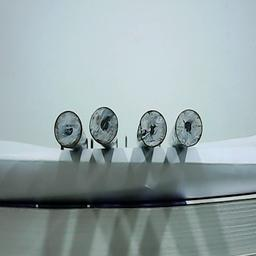pen: (88, 105, 120, 146), (138, 108, 168, 148), (174, 108, 205, 146), (54, 110, 83, 147)
